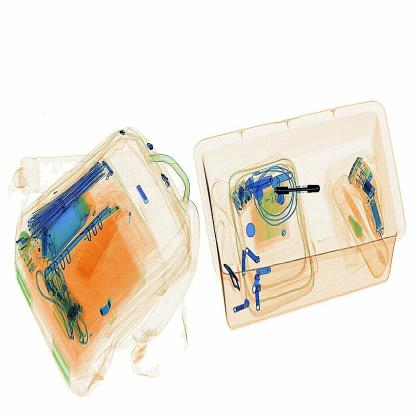knife: (276, 183, 324, 200)
